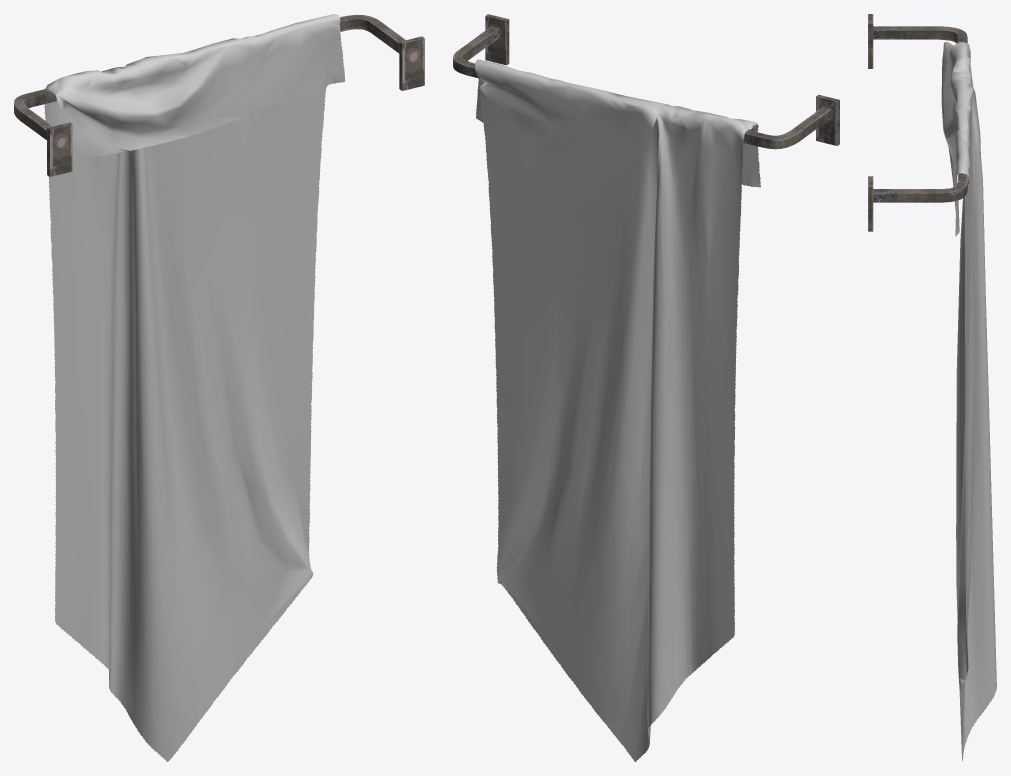
The model's file is SM_FlagCastle01.FBX.
3 views of the same model, side by side, from view 1: azimuth 30°, elevation 25°; view 2: azimuth 150°, elevation 25°; view 3: azimuth 270°, elevation 25° (orthographic). The views are drawn at different scales.
Visible parts, largest first — view 1: SM_FlagCastle01; view 2: SM_FlagCastle01; view 3: SM_FlagCastle01.
Boxes of the visible parts, <box> form: SM_FlagCastle01: <box>14,14,424,761</box>; SM_FlagCastle01: <box>453,14,839,761</box>; SM_FlagCastle01: <box>868,14,996,761</box>.
Bounding box in the file's own units: 475 × 150 × 860.
